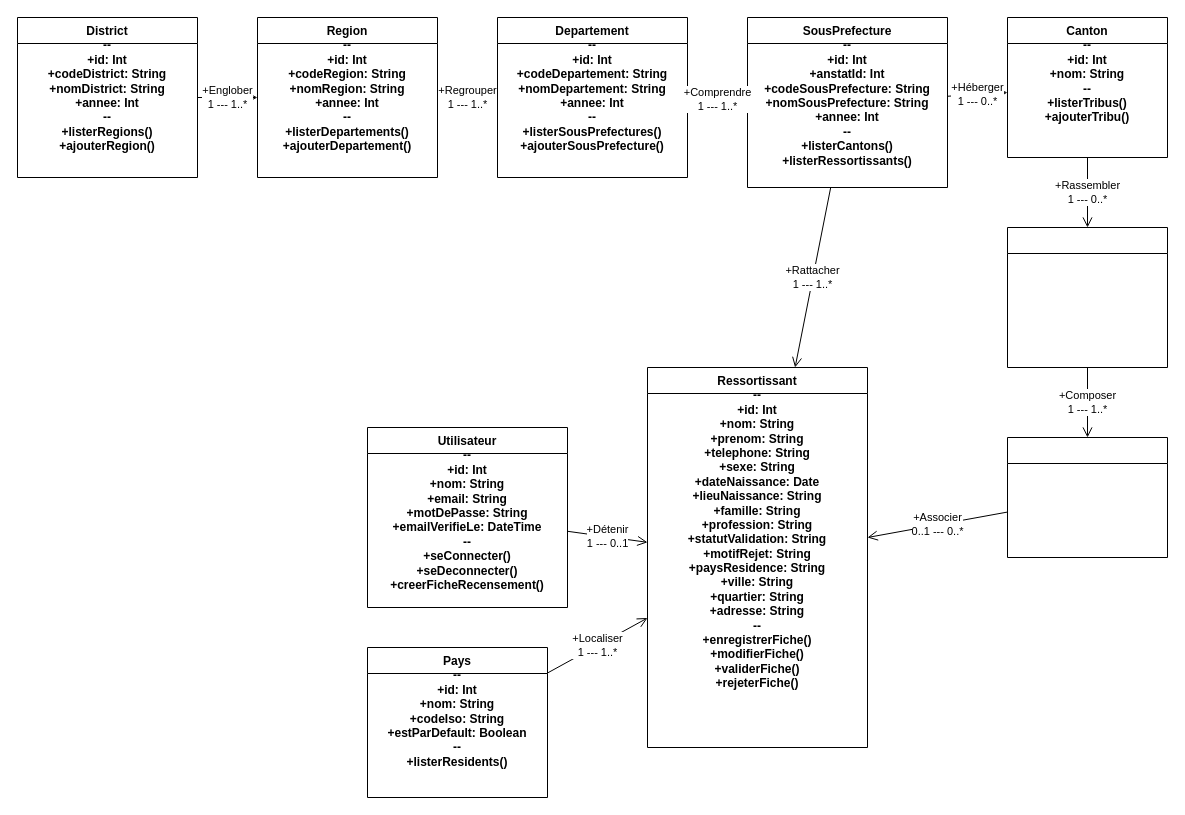
The diagram is 1185 pixels wide and 815 high, and some of its shapes have lost their labels. Each missing label, with the centre of its shape:
"Tribu -- +id: Int +nom: String -- +listerVillages() +ajouterVillage()" goes at [1087,297].
"Village -- +id: Int +nom: String -- +listerRessortissants()" goes at [1087,497].
